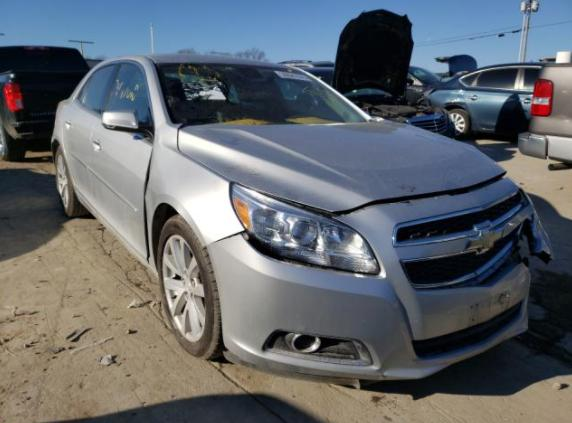Back-door: (63, 60, 121, 202)
Back-wheel: (55, 145, 87, 217)
Back-window: (78, 65, 115, 112)
Fender: (145, 122, 246, 272)
Front-bumper: (206, 175, 554, 381)
Front-door: (89, 59, 154, 265)
Front-wheel: (157, 214, 222, 359)
Front-window: (103, 63, 150, 126)
Grille: (405, 225, 520, 283), (398, 193, 521, 242)
Headlight: (231, 183, 380, 272)
Hood: (179, 117, 507, 212)
Mirror: (101, 109, 154, 142)
Quarter-panel: (51, 96, 75, 187)
Rocker-panel: (74, 186, 158, 279)
Roof: (140, 53, 300, 71)
Windshield: (155, 63, 367, 130)
